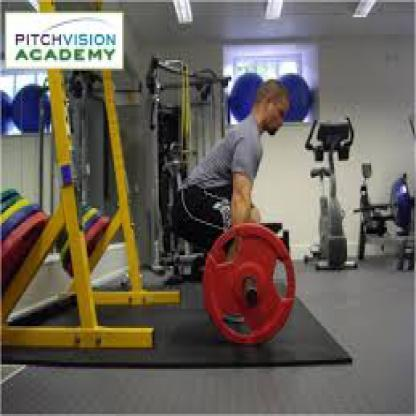barbell: (201, 219, 297, 348)
